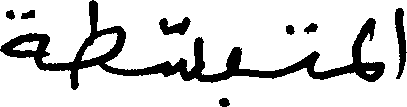ا: (392, 5, 404, 79)
ب: (224, 44, 240, 104)
ة: (0, 8, 51, 72)
ت: (284, 21, 320, 80)
س: (161, 15, 204, 82)
ط: (71, 0, 125, 90)
ل: (350, 16, 375, 67)
م: (347, 58, 384, 90)
